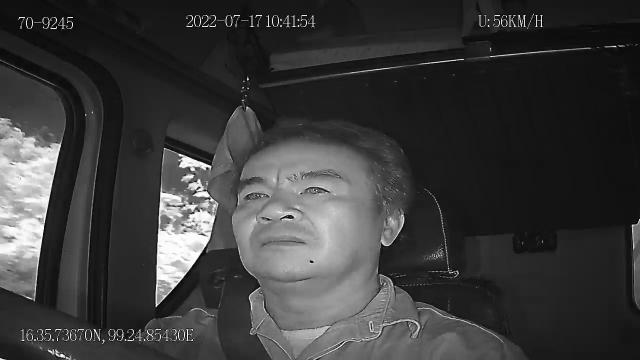SafeDriving: (292, 175, 340, 202), (236, 180, 274, 207)
Seatbelt: (216, 274, 274, 360)
